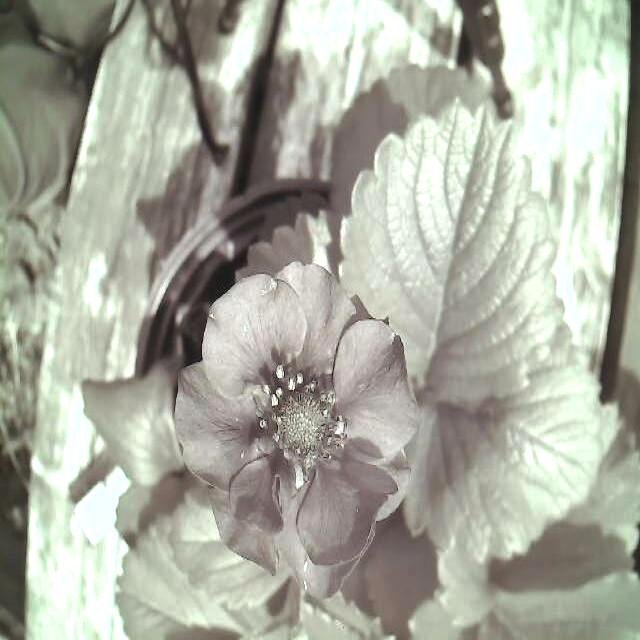flower: (172, 259, 418, 585)
